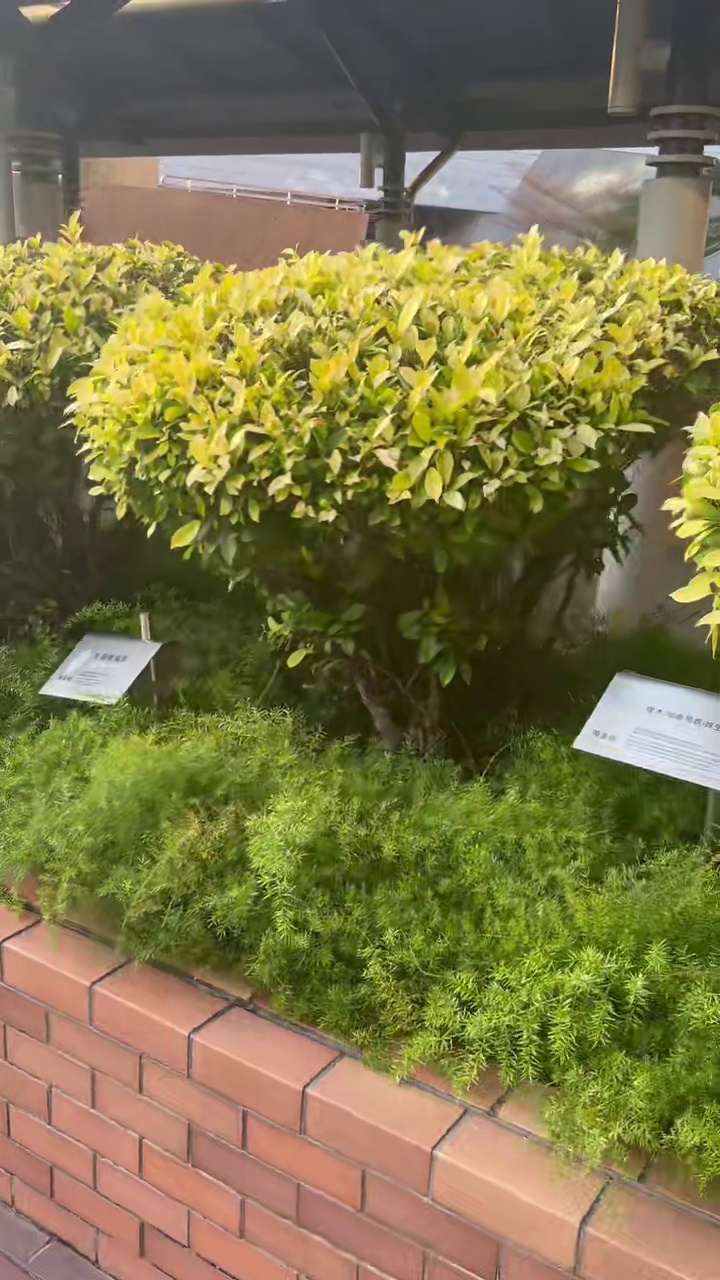Golden-leaves Fig: (66, 231, 719, 747)
